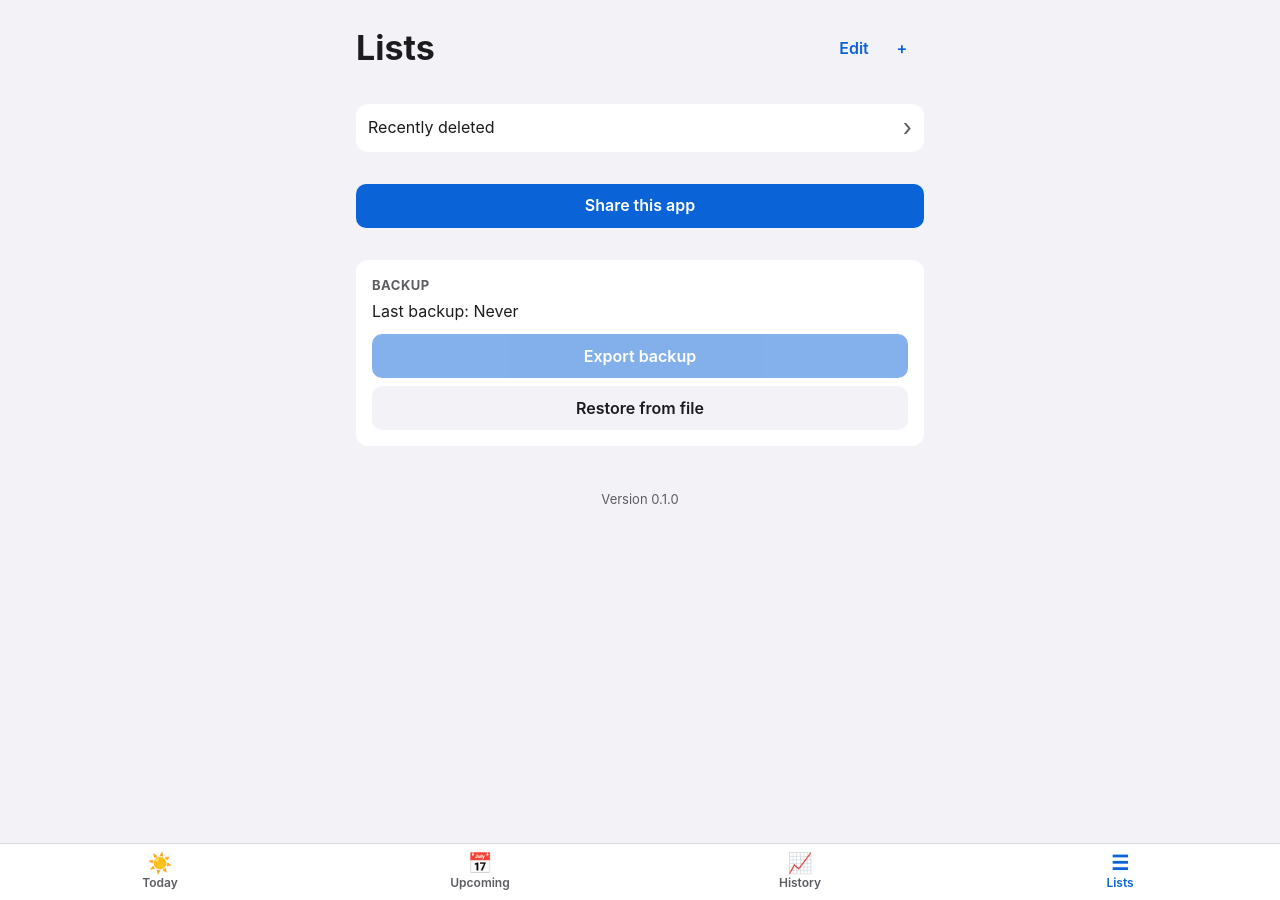
Share this app › copies the link and says so where there is no share sheet
Click the button "Share this app" at coordinates (640, 206), box [356,184,924,228]
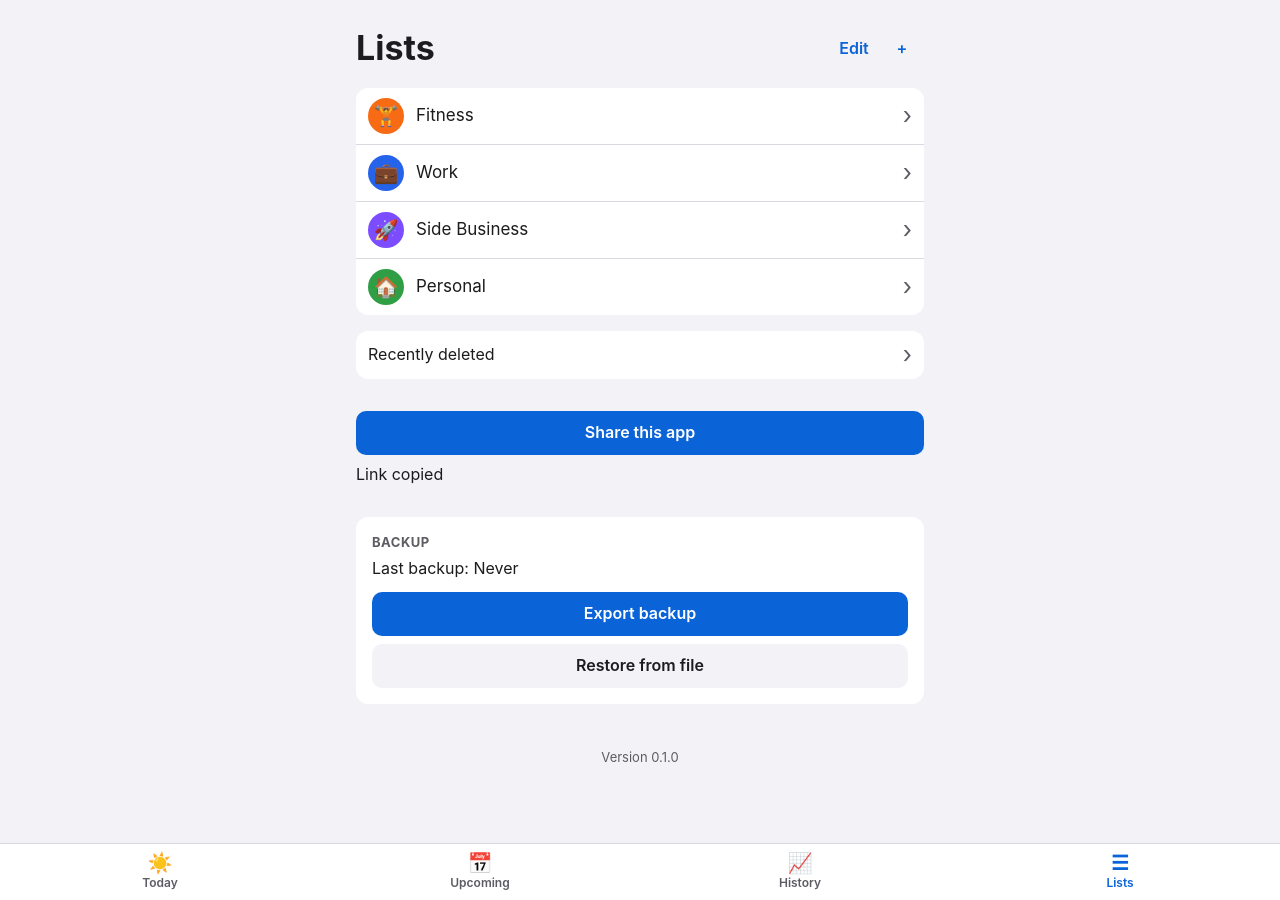
Expected: the message "Link copied" is shown, [356,464,443,484]
